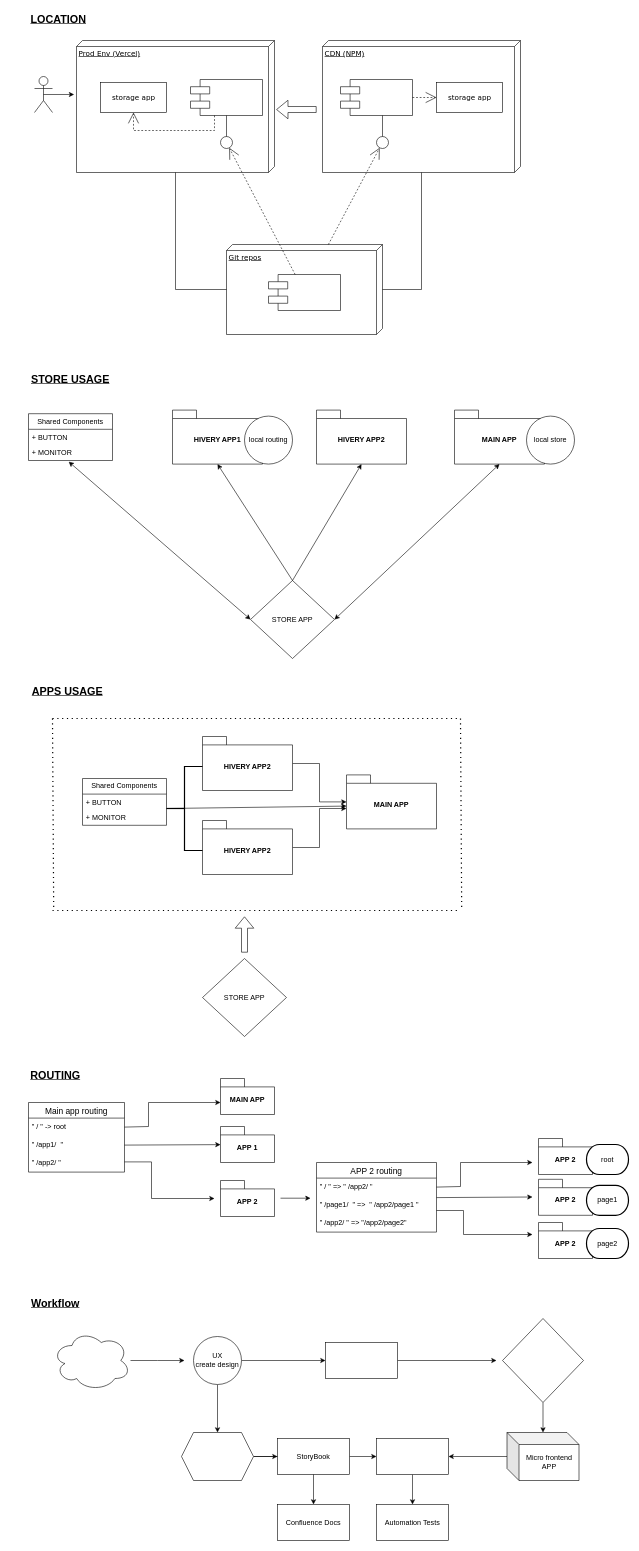
Image size: 639x1551. Some labels were removed from this diagram. The shapes that lost their labels are listed below. From the top down, each one's centre as x and y in pixels, then its label:
(x=43, y=94): Visitor
(x=226, y=97): Main micro frontend
(x=376, y=97): micro frontends
(x=304, y=292): Apps
(x=91, y=1360): Idea
(x=361, y=1360): FIGMA
(x=543, y=1360): Product team implementation
(x=217, y=1456): UI framework development
(x=412, y=1456): QA
